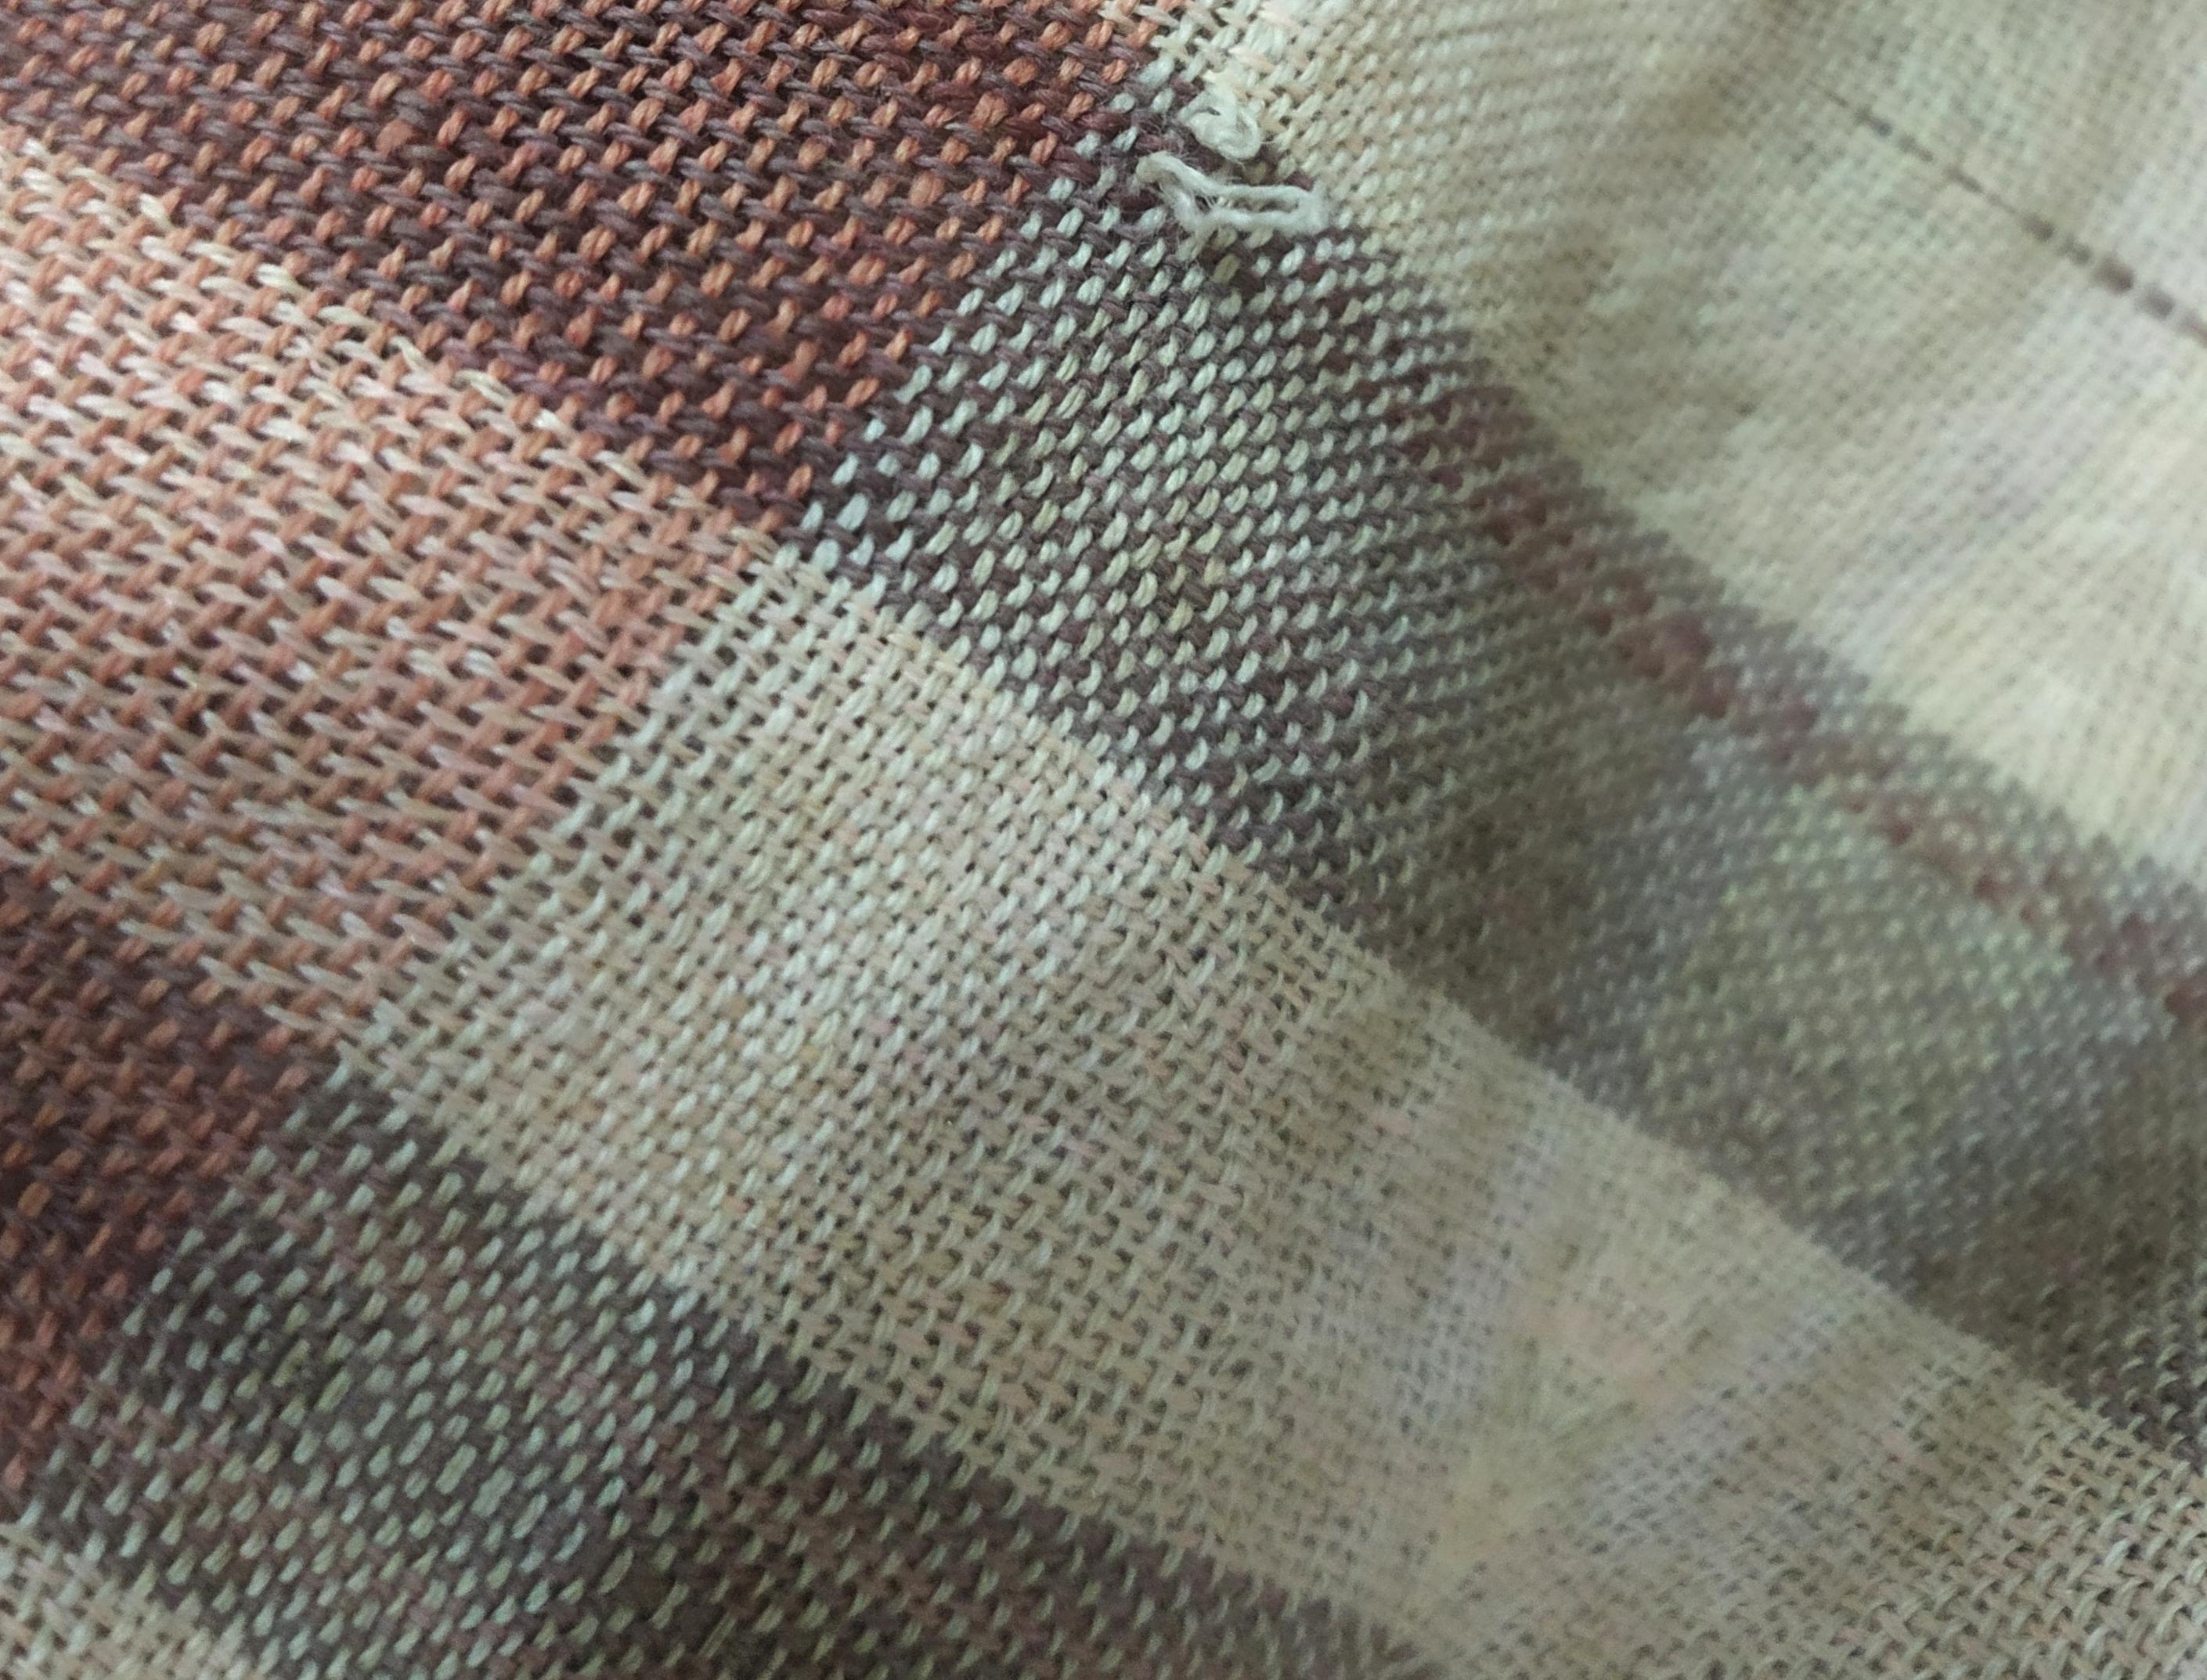snag: (1126, 86, 1355, 259)
